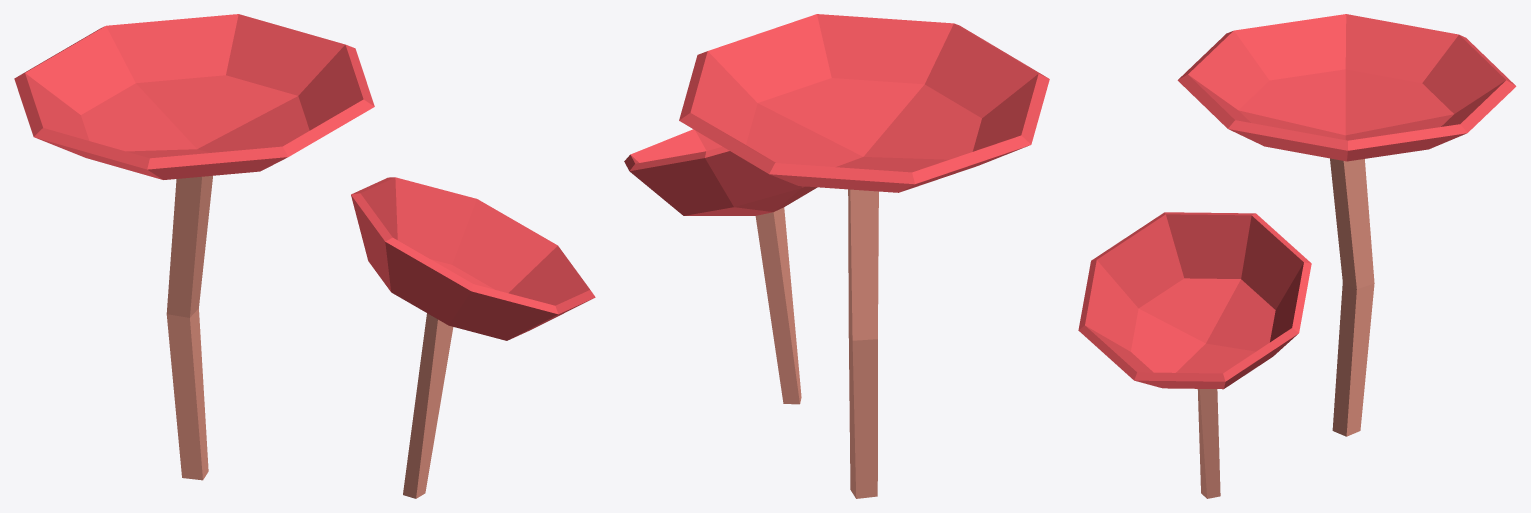
Rendered from Mushroom_d_06.fbx.
The picture shows the model from 3 angles, left to right: view 1: azimuth 30°, elevation 25°; view 2: azimuth 150°, elevation 25°; view 3: azimuth 270°, elevation 25°; orthographic projection. The views are drawn at different scales.
Parts seen in each view (by area): view 1: Mushroom_d_06; view 2: Mushroom_d_06; view 3: Mushroom_d_06.
Part boxes in pixels (bbox=[...]): Mushroom_d_06: bbox=[14, 14, 595, 498]; Mushroom_d_06: bbox=[624, 14, 1049, 498]; Mushroom_d_06: bbox=[1078, 14, 1516, 498].
Bounding box in the file's own units: 32.51 × 26.53 × 29.4.
